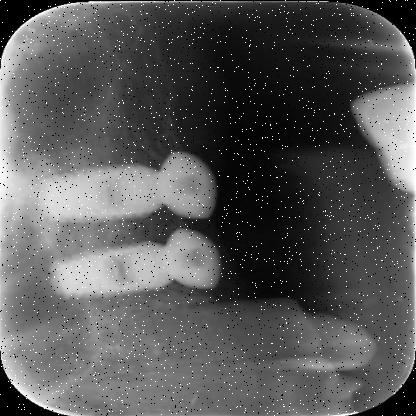Bicon: (44, 239, 174, 304), (36, 160, 162, 224)
